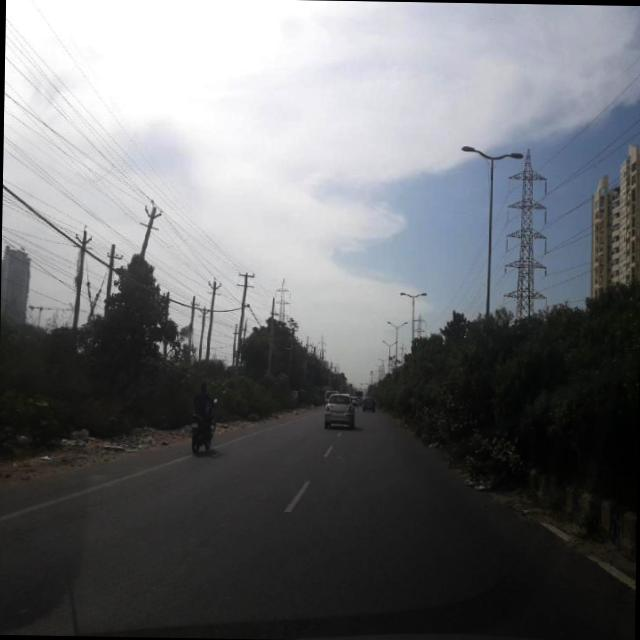crack: (0, 464, 599, 634)
